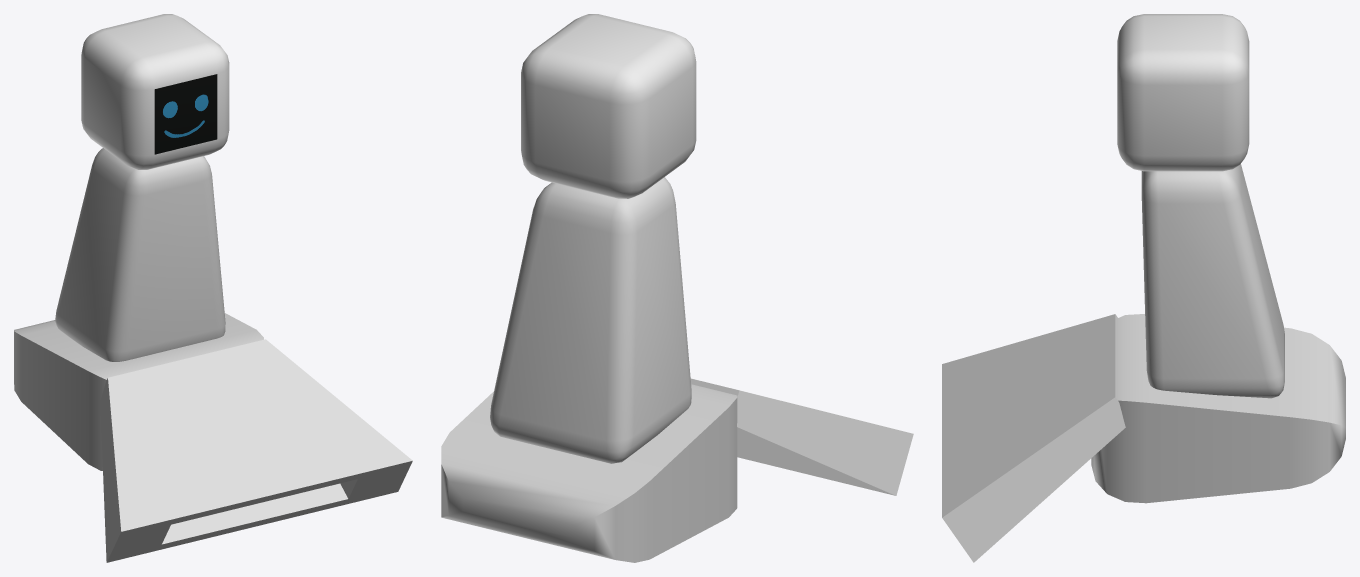
File: CleaningRobot.fbx
3 views of the same model, side by side, from view 1: azimuth 30°, elevation 25°; view 2: azimuth 150°, elevation 25°; view 3: azimuth 270°, elevation 25° (orthographic). The views are drawn at different scales.
Visible parts, largest first — view 1: Vaccum, Body, Head, Wheels; view 2: Body, Wheels, Head, Vaccum; view 3: Vaccum, Wheels, Body, Head.
Boxes of the visible parts, left/top/right/bottom form: Vaccum: left=100, top=339, right=412, bottom=562; Body: left=55, top=148, right=225, bottom=361; Head: left=81, top=14, right=229, bottom=169; Wheels: left=14, top=313, right=263, bottom=470; Body: left=490, top=177, right=691, bottom=463; Wheels: left=441, top=384, right=737, bottom=562; Head: left=521, top=14, right=696, bottom=198; Vaccum: left=690, top=378, right=913, bottom=495; Vaccum: left=942, top=314, right=1125, bottom=562; Wheels: left=1091, top=314, right=1345, bottom=503; Body: left=1141, top=164, right=1284, bottom=398; Head: left=1117, top=14, right=1249, bottom=171.
Bounding box in the file's own units: 76.01 × 104 × 84.39.
